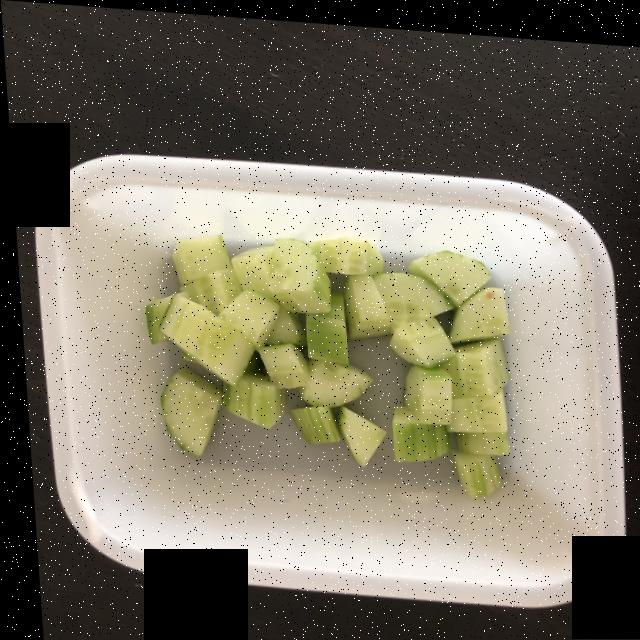cucumber: (145, 235, 500, 477)
